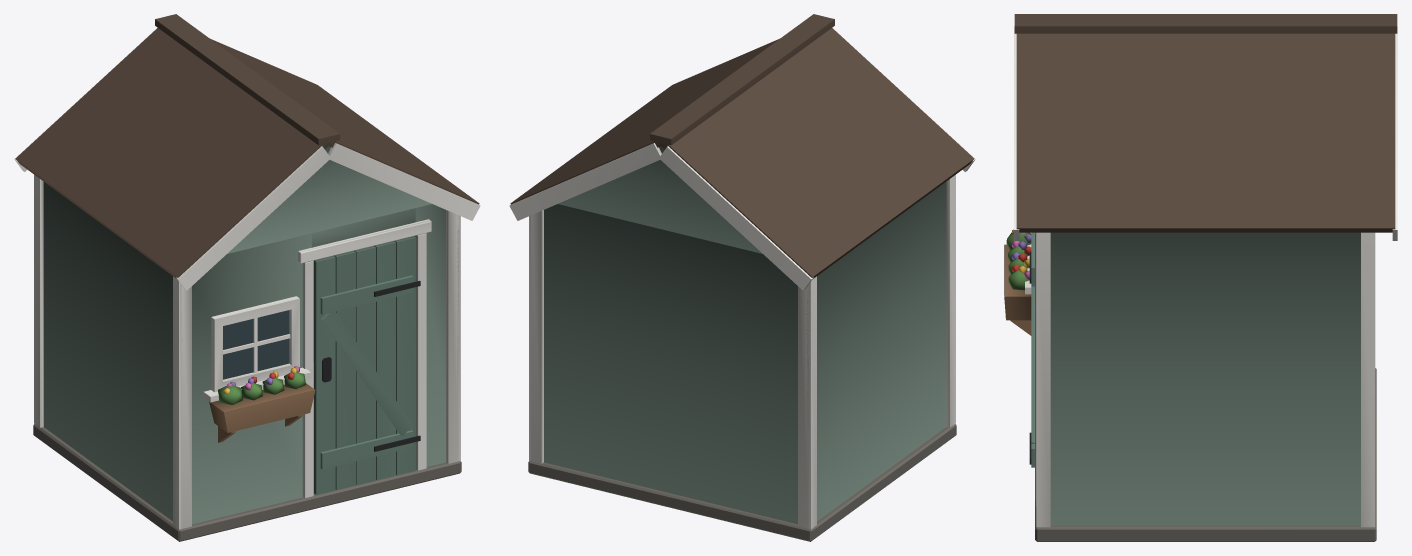
File: shedSmall.far.glb
3 views of the same model, side by side, from view 1: azimuth 30°, elevation 25°; view 2: azimuth 150°, elevation 25°; view 3: azimuth 270°, elevation 25° (orthographic). The views are drawn at different scales.
Parts seen in each view (by area): view 1: shedSmall; view 2: shedSmall; view 3: shedSmall.
Part boxes in pixels (x1,y1,x2,y2): shedSmall: [14, 14, 480, 541]; shedSmall: [509, 14, 975, 541]; shedSmall: [1004, 14, 1397, 541].
Bounding box in the file's own units: 1.98 × 2.37 × 1.91.
